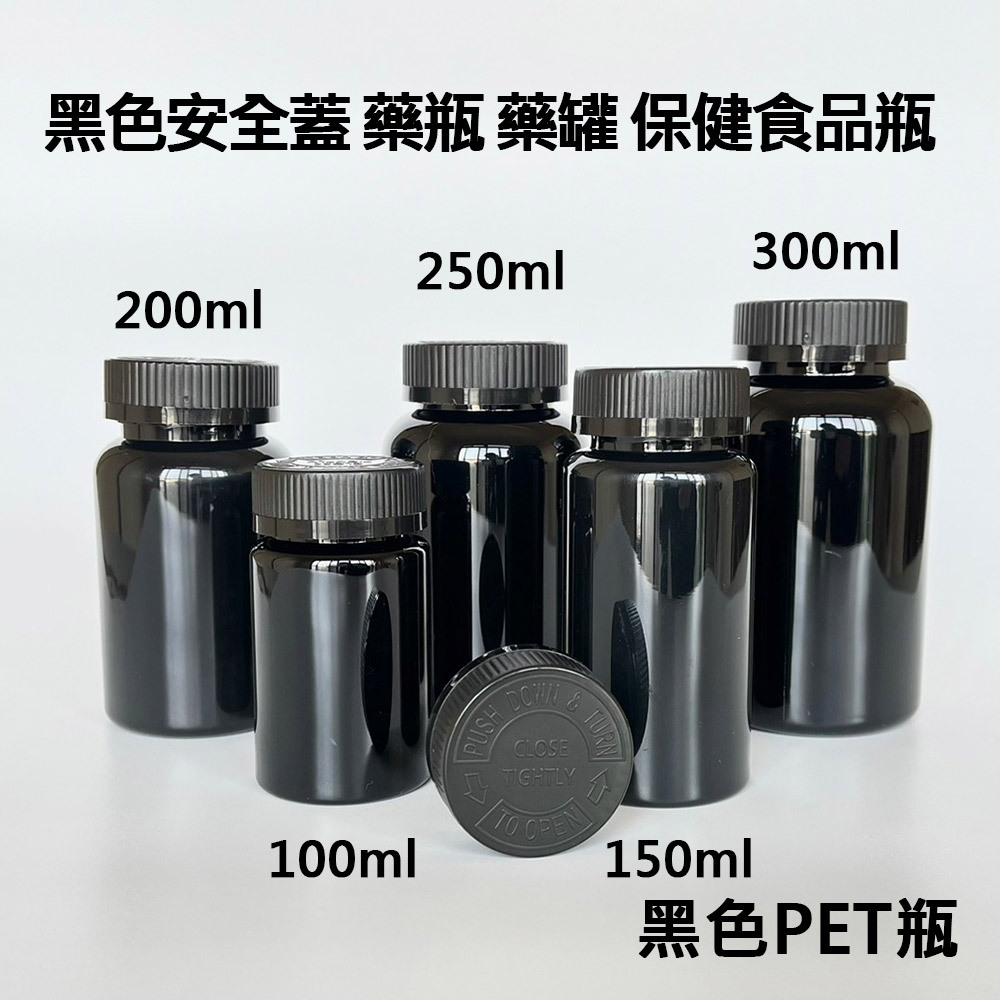medicinejar: (392, 328, 582, 782), (734, 297, 926, 735), (574, 365, 757, 808), (94, 347, 292, 750), (252, 455, 437, 840)
